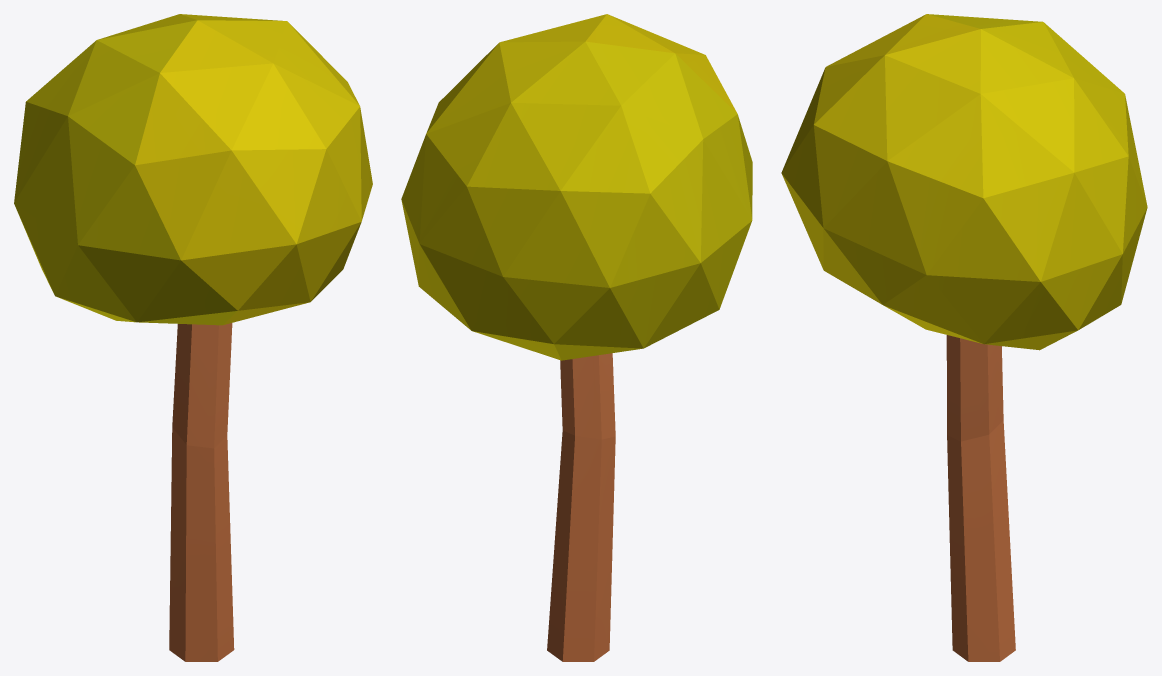
File: tree2.fbx
The picture shows the model from 3 angles, left to right: view 1: azimuth 30°, elevation 25°; view 2: azimuth 150°, elevation 25°; view 3: azimuth 270°, elevation 25°; orthographic projection. The views are drawn at different scales.
Parts seen in each view (by area): view 1: Icosphere.002, Cylinder.008; view 2: Icosphere.002, Cylinder.008; view 3: Icosphere.002, Cylinder.008.
Boxes of the visible parts, x1,y1,x2,y2 form: Icosphere.002: (14, 14, 372, 325); Cylinder.008: (169, 323, 234, 661); Icosphere.002: (401, 14, 752, 360); Cylinder.008: (547, 353, 615, 661); Icosphere.002: (781, 14, 1147, 350); Cylinder.008: (946, 335, 1015, 661).
Bounding box in the file's own units: 1.92 × 3.71 × 1.99.
1 material, 1 textured.
